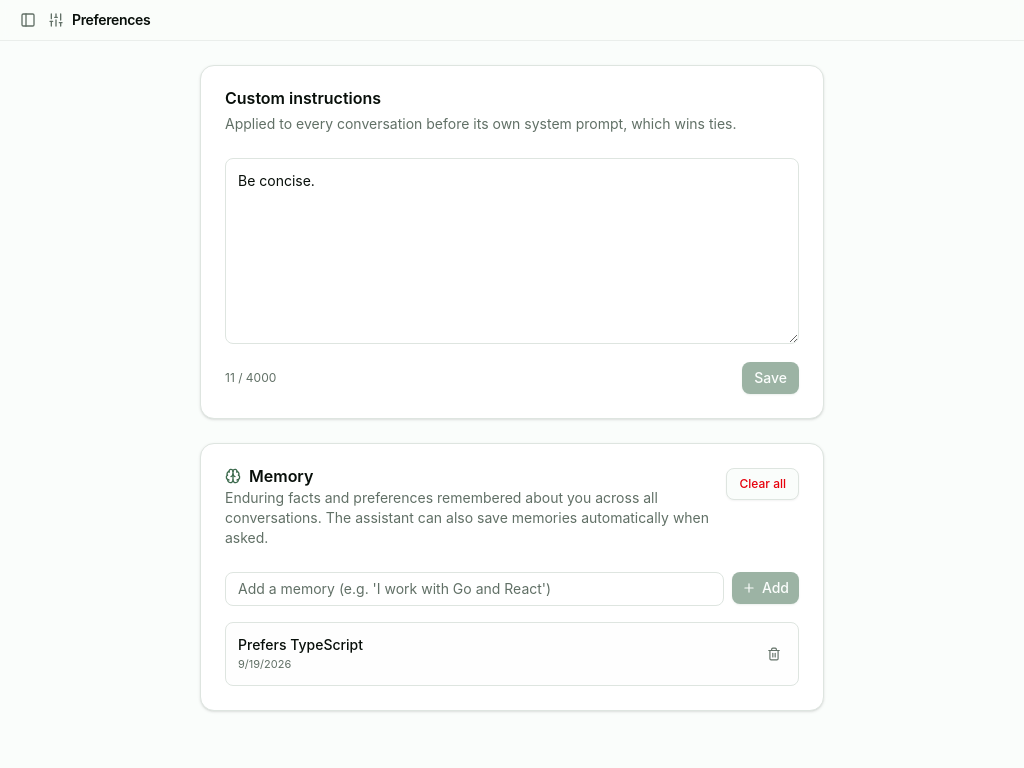
PreferencesPage › adds, lists, and deletes memories
Expected: the text "Prefers TypeScript" is shown, [238,636,363,653]
// Add new memory
Step 1. Type "Lives in Paris" into the field named "New memory" → [474, 589], box [225,572,724,606]
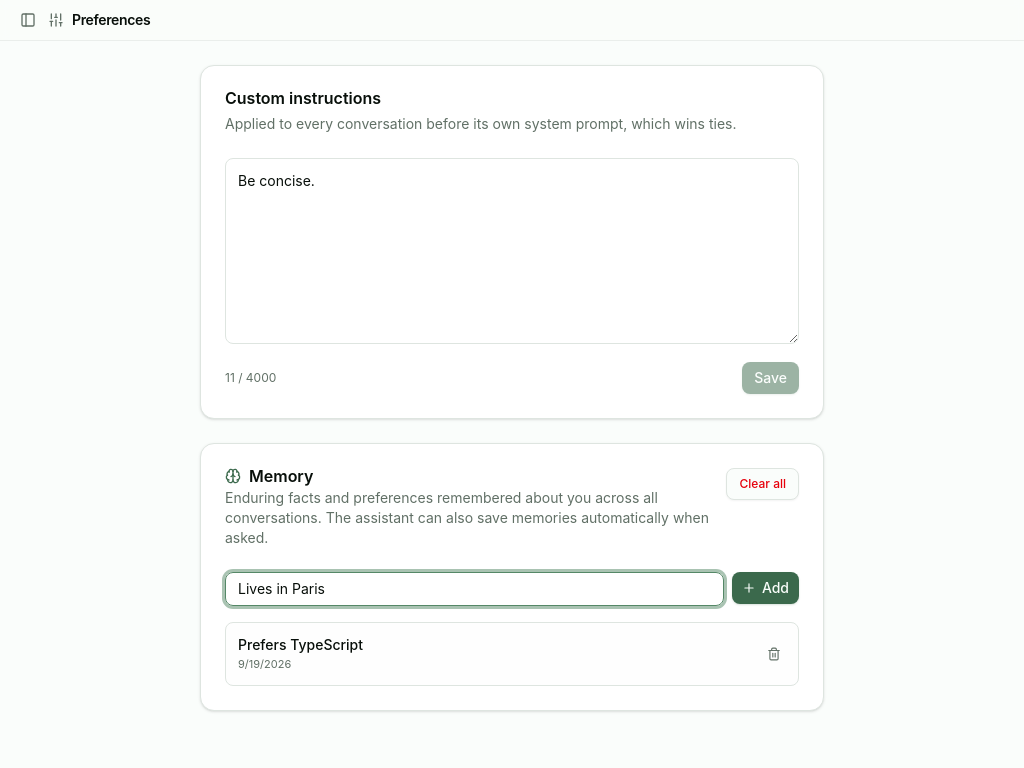
Step 2. Click the button "Add" → [765, 588], box [732,572,799,604]
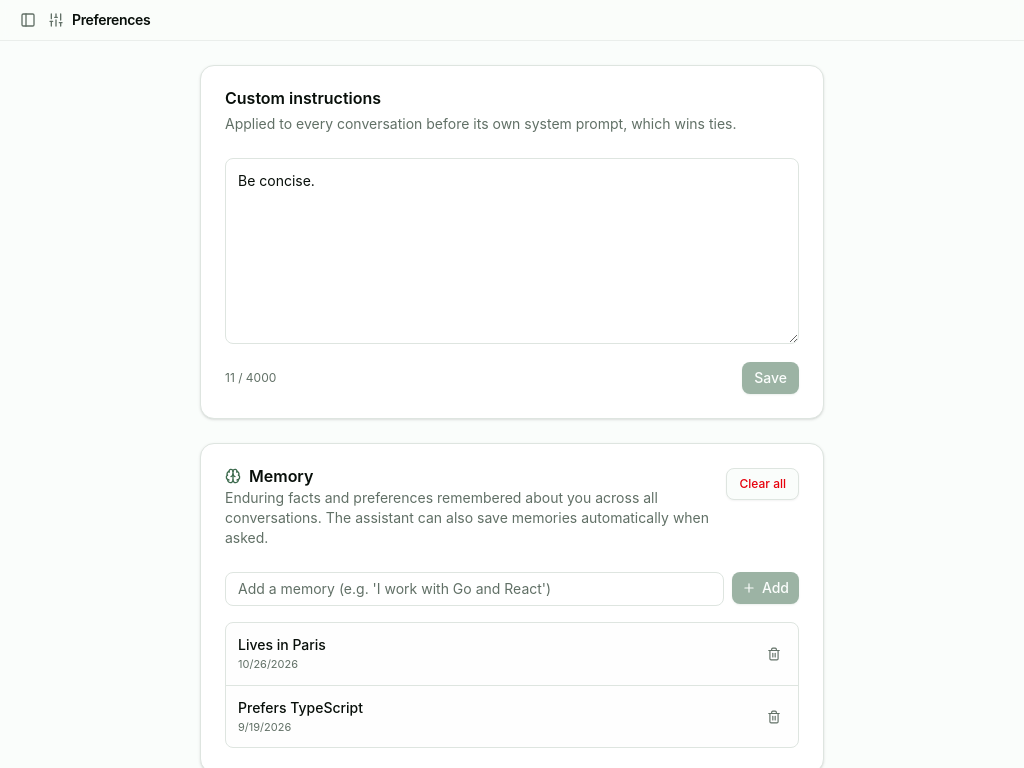
Now the text "Lives in Paris" is shown, box [238,636,326,653]
// Delete a memory
Step 3. Click the button named "Delete memory: Prefers TypeScript" → [774, 716], box [762,704,786,728]
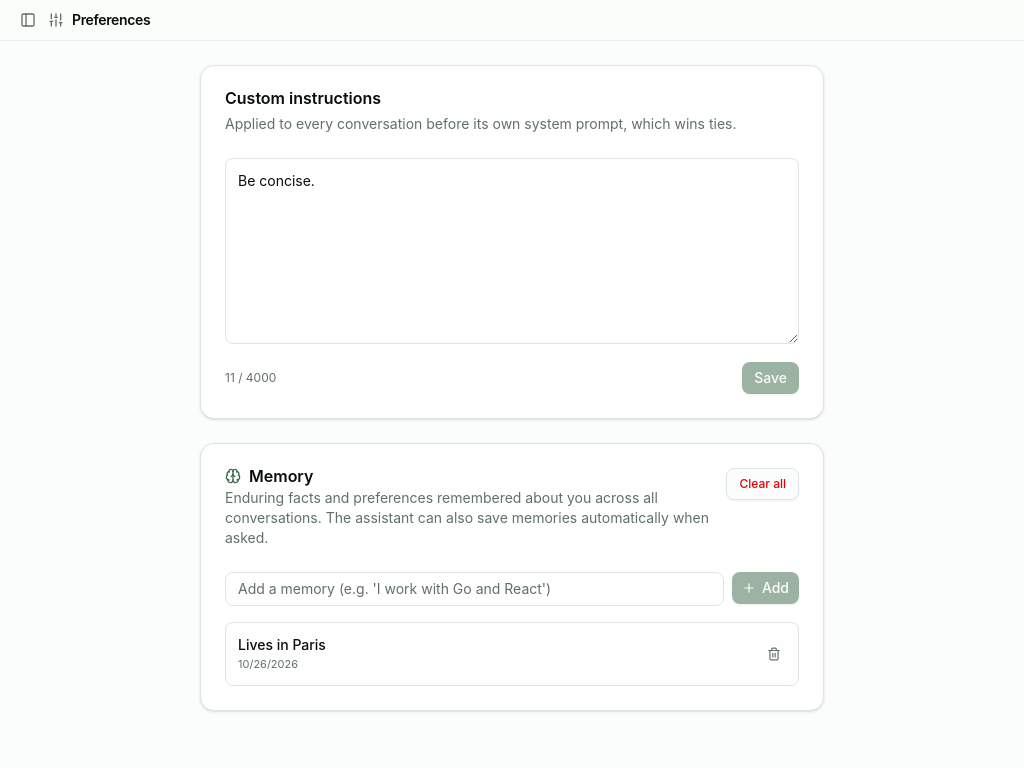
Now the text "Prefers TypeScript" is gone
